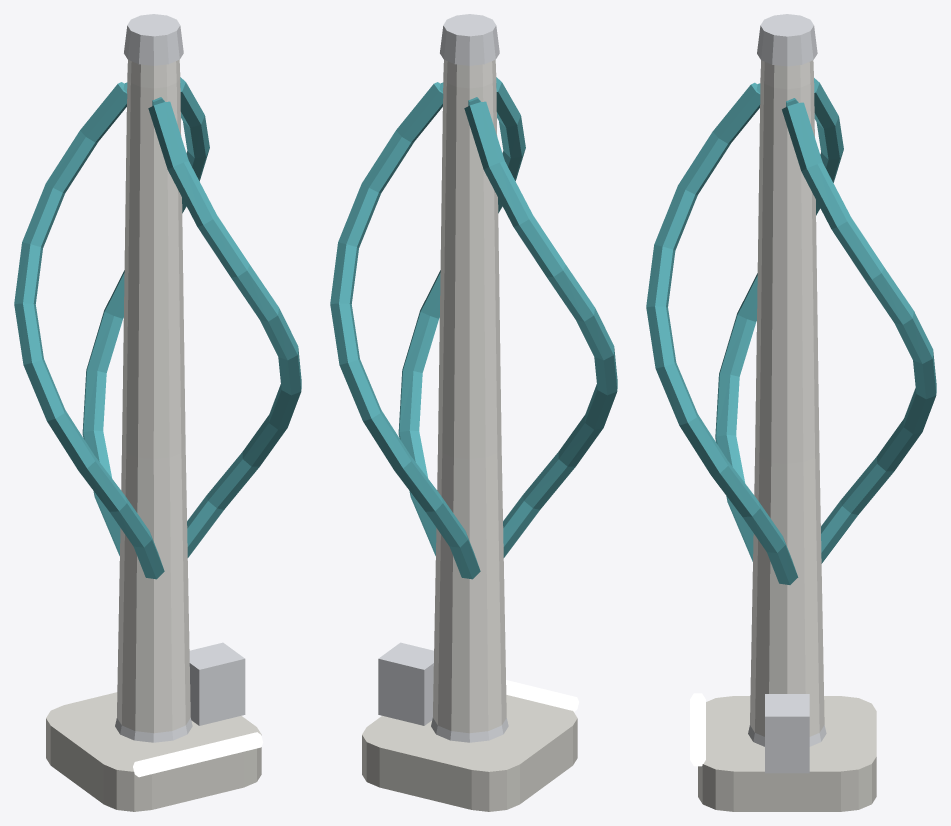
The model's file is arcology-towers-and-skyways-vertical-wind-turbine-744ae1e7__23280.glb.
3 renders of one model, left to right at view 1: azimuth 30°, elevation 25°; view 2: azimuth 150°, elevation 25°; view 3: azimuth 270°, elevation 25°, orthographic.
Parts seen in each view (by area): view 1: vertical-wind-turbine, rotor; view 2: vertical-wind-turbine, rotor; view 3: vertical-wind-turbine, rotor.
Boxes of the visible parts, bbox=[...] form: vertical-wind-turbine: bbox=[46, 14, 263, 811]; rotor: bbox=[14, 77, 301, 579]; vertical-wind-turbine: bbox=[362, 14, 578, 811]; rotor: bbox=[330, 77, 617, 579]; vertical-wind-turbine: bbox=[690, 14, 876, 811]; rotor: bbox=[646, 78, 936, 584].
Bounding box in the file's own units: 3.11 × 9.25 × 3.25.
